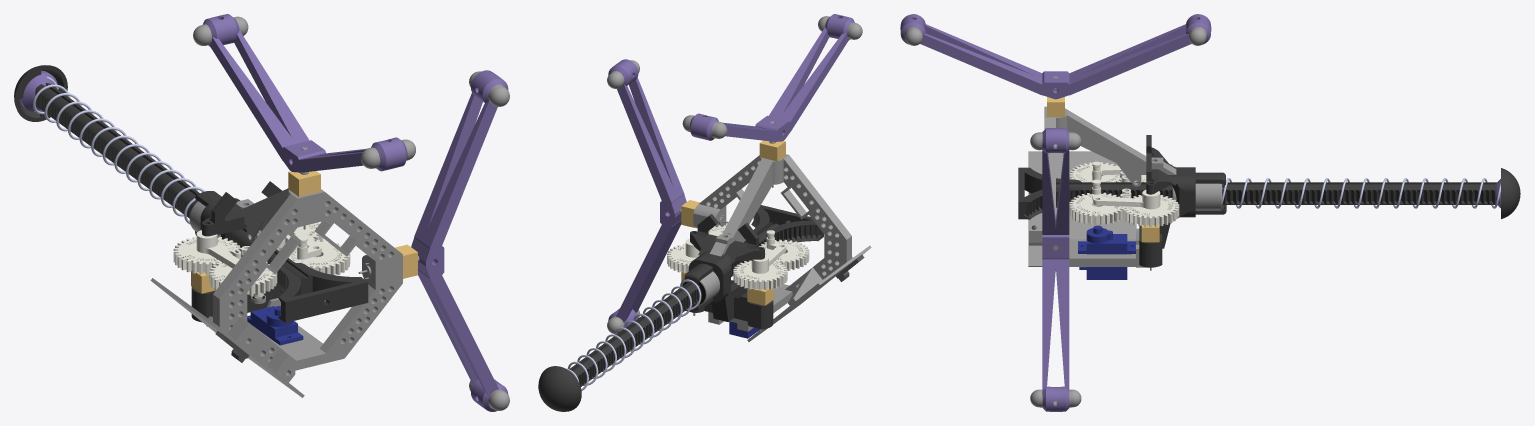
3 renders of one model, left to right at view 1: azimuth 30°, elevation 25°; view 2: azimuth 150°, elevation 25°; view 3: azimuth 270°, elevation 25°, orthographic. The views are drawn at different scales.
Parts seen in each view (by area): view 1: CROWN, ARM, LEG, ARM (1), Body2, Struct, DriverGear (1) (1), Body1:6, DrivenGear, BALL (1), PCB, DriveMotorMount (+11 smaller); view 2: CROWN, ARM, ARM (1), LEG, Struct, Body2, BALL (1), DriveMotorMount, DriverGear (1) (1), DrivenGear (1), PCB, ConRodwSpring L (+7 smaller); view 3: LEG, ARM (1), ARM, CROWN, Struct, PCB, Body1:6, Body2, DrivenGear, DriverGear (1), ConRodwSpring R, Body1:2 (+3 smaller).
Part boxes in pixels (x1,y1,x2,y2): CROWN: (208, 188, 402, 370); ARM: (411, 70, 508, 411); LEG: (35, 83, 368, 322); ARM (1): (203, 14, 407, 172); Body2: (33, 77, 205, 224); Struct: (195, 181, 281, 236); DriverGear (1) (1): (173, 236, 239, 274); Body1:6: (247, 306, 303, 345); DrivenGear: (288, 239, 350, 275); BALL (1): (14, 65, 67, 121); PCB: (150, 278, 304, 397); DriveMotorMount: (191, 283, 283, 322); CROWN: (693, 154, 851, 331); ARM: (608, 59, 686, 327); ARM (1): (689, 14, 854, 141); LEG: (569, 205, 823, 386); Struct: (684, 214, 764, 310); Body2: (566, 279, 701, 390); BALL (1): (538, 366, 581, 411); DriveMotorMount: (685, 292, 773, 329); DriverGear (1) (1): (733, 260, 787, 290); DrivenGear (1): (759, 239, 809, 270); PCB: (747, 245, 871, 341); ConRodwSpring L: (751, 230, 786, 273); LEG: (1018, 167, 1496, 219); ARM (1): (900, 14, 1211, 98); ARM: (1042, 128, 1069, 411); CROWN: (1044, 106, 1176, 270); Struct: (1146, 135, 1226, 226); PCB: (1028, 151, 1136, 266); Body1:6: (1078, 225, 1135, 279); Body2: (1222, 178, 1500, 208); DrivenGear: (1069, 192, 1124, 225); DriverGear (1): (1122, 195, 1179, 226); ConRodwSpring R: (1092, 179, 1160, 209); Body1:2: (1172, 183, 1222, 210).
Size of the model in its own units: 16.6 by 19.47 by 34.63.
